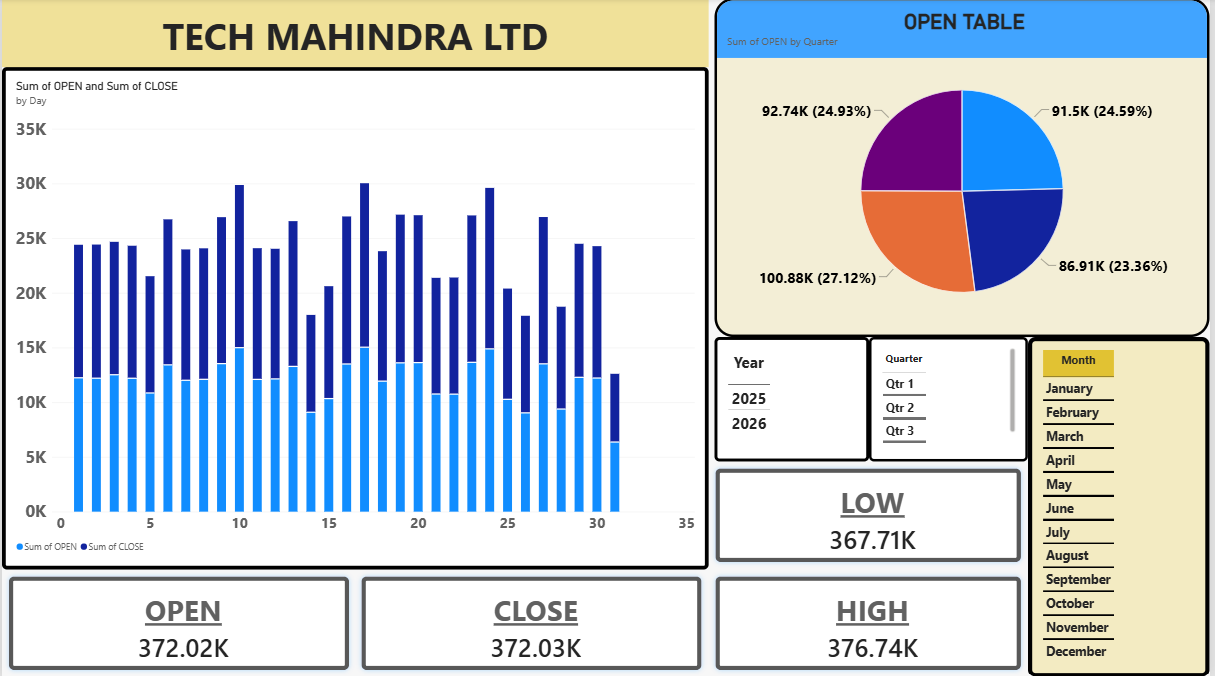

This screenshot's page, from the dashboard's own definition file:
{"tool":"powerbi","page":{"name":"MAHINDRA","canvas":[1920,1080],"ordinal":3},"visuals":[{"type":"columnChart","fields":{"Category":["TECH MAHINDRA.DATE.Variation.Date Hierarchy.Day"],"Y":["Sum(TECH MAHINDRA.OPEN)","Sum(TECH MAHINDRA.CLOSE)"]},"box":[0,109.8,1123.8,799.3],"z":0},{"type":"cardVisual","fields":{"Data":["Sum(TECH MAHINDRA.OPEN)"]},"box":[0,909,563.1,171.8],"z":1},{"type":"cardVisual","fields":{"Data":["Sum(TECH MAHINDRA.CLOSE)"]},"box":[560.7,909,563.1,171.8],"z":2},{"type":"textbox","box":[0,0,1123.8,109.8],"z":3},{"type":"pieChart","title":"OPEN TABLE","fields":{"Category":["TECH MAHINDRA.DATE.Variation.Date Hierarchy.Quarter"],"Y":["Sum(TECH MAHINDRA.OPEN)"]},"box":[1133.3,0,787.4,539.2],"z":4},{"type":"tableEx","fields":{"Values":["TECH MAHINDRA.DATE.Variation.Date Hierarchy.Month"]},"box":[1632,539.2,288.7,541.6],"z":5},{"type":"cardVisual","fields":{"Data":["Sum(TECH MAHINDRA.HIGH)"]},"box":[1123.8,909,508.2,171.8],"z":6},{"type":"cardVisual","fields":{"Data":["Sum(TECH MAHINDRA.LOW)"]},"box":[1123.8,737.2,508.2,171.8],"z":7},{"type":"tableEx","fields":{"Values":["TECH MAHINDRA.DATE.Variation.Date Hierarchy.Quarter"]},"box":[1379.1,539.2,252.9,198],"z":8},{"type":"tableEx","fields":{"Values":["TECH MAHINDRA.DATE.Variation.Date Hierarchy.Year"]},"box":[1133.3,539.2,245.7,198],"z":9}]}

Visuals, with their boxes in screenshot pixels (x1, y1, x2, y2), scaled from the page's 1920x1080 canvas onto the 1215x676 screenshot:
columnChart - TECH MAHINDRA.DATE.Variation.Date Hierarchy.Day x Sum(TECH MAHINDRA.OPEN): bbox(0, 69, 711, 569)
cardVisual - Sum(TECH MAHINDRA.OPEN): bbox(0, 569, 356, 675)
cardVisual - Sum(TECH MAHINDRA.CLOSE): bbox(355, 569, 711, 675)
textbox: bbox(0, 0, 711, 69)
"OPEN TABLE" pieChart: bbox(717, 0, 1214, 337)
tableEx - TECH MAHINDRA.DATE.Variation.Date Hierarchy.Month: bbox(1033, 337, 1214, 675)
cardVisual - Sum(TECH MAHINDRA.HIGH): bbox(711, 569, 1033, 675)
cardVisual - Sum(TECH MAHINDRA.LOW): bbox(711, 461, 1033, 569)
tableEx - TECH MAHINDRA.DATE.Variation.Date Hierarchy.Quarter: bbox(873, 337, 1033, 461)
tableEx - TECH MAHINDRA.DATE.Variation.Date Hierarchy.Year: bbox(717, 337, 873, 461)
